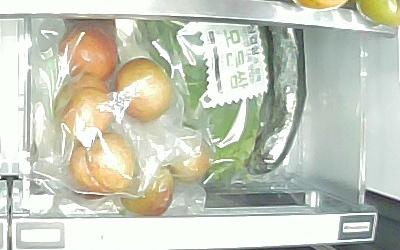prune_vinyl: (53, 75, 114, 138), (71, 133, 132, 193), (116, 57, 171, 121), (59, 26, 117, 83), (123, 159, 174, 216), (165, 131, 209, 184)
